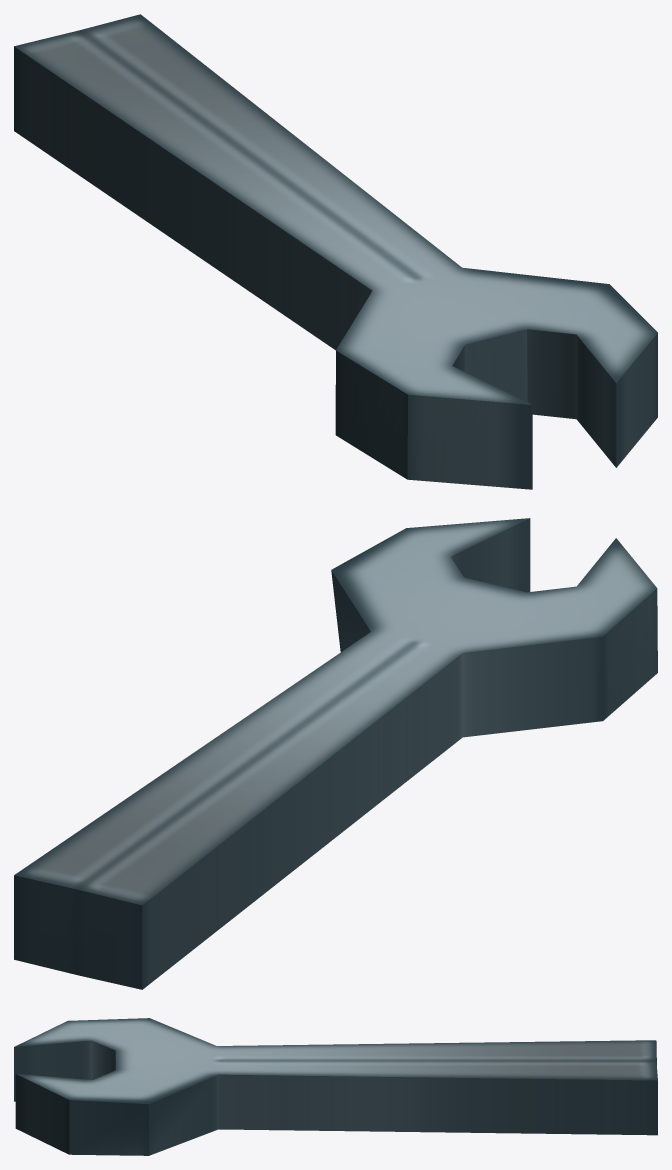
The model's file is wrench.fbx.
3 renders of one model, top to bottom at view 1: azimuth 30°, elevation 25°; view 2: azimuth 150°, elevation 25°; view 3: azimuth 270°, elevation 25°, orthographic. The views are drawn at different scales.
Visible parts, largest first — view 1: pCube4; view 2: pCube4; view 3: pCube4.
Boxes of the visible parts, x1,y1,x2,y2 form: pCube4: (14, 14, 657, 489); pCube4: (14, 518, 657, 989); pCube4: (14, 1018, 657, 1155).
Size of the model in its own units: 0.0817 by 0.0242 by 0.2579.
1 material, 1 textured.
